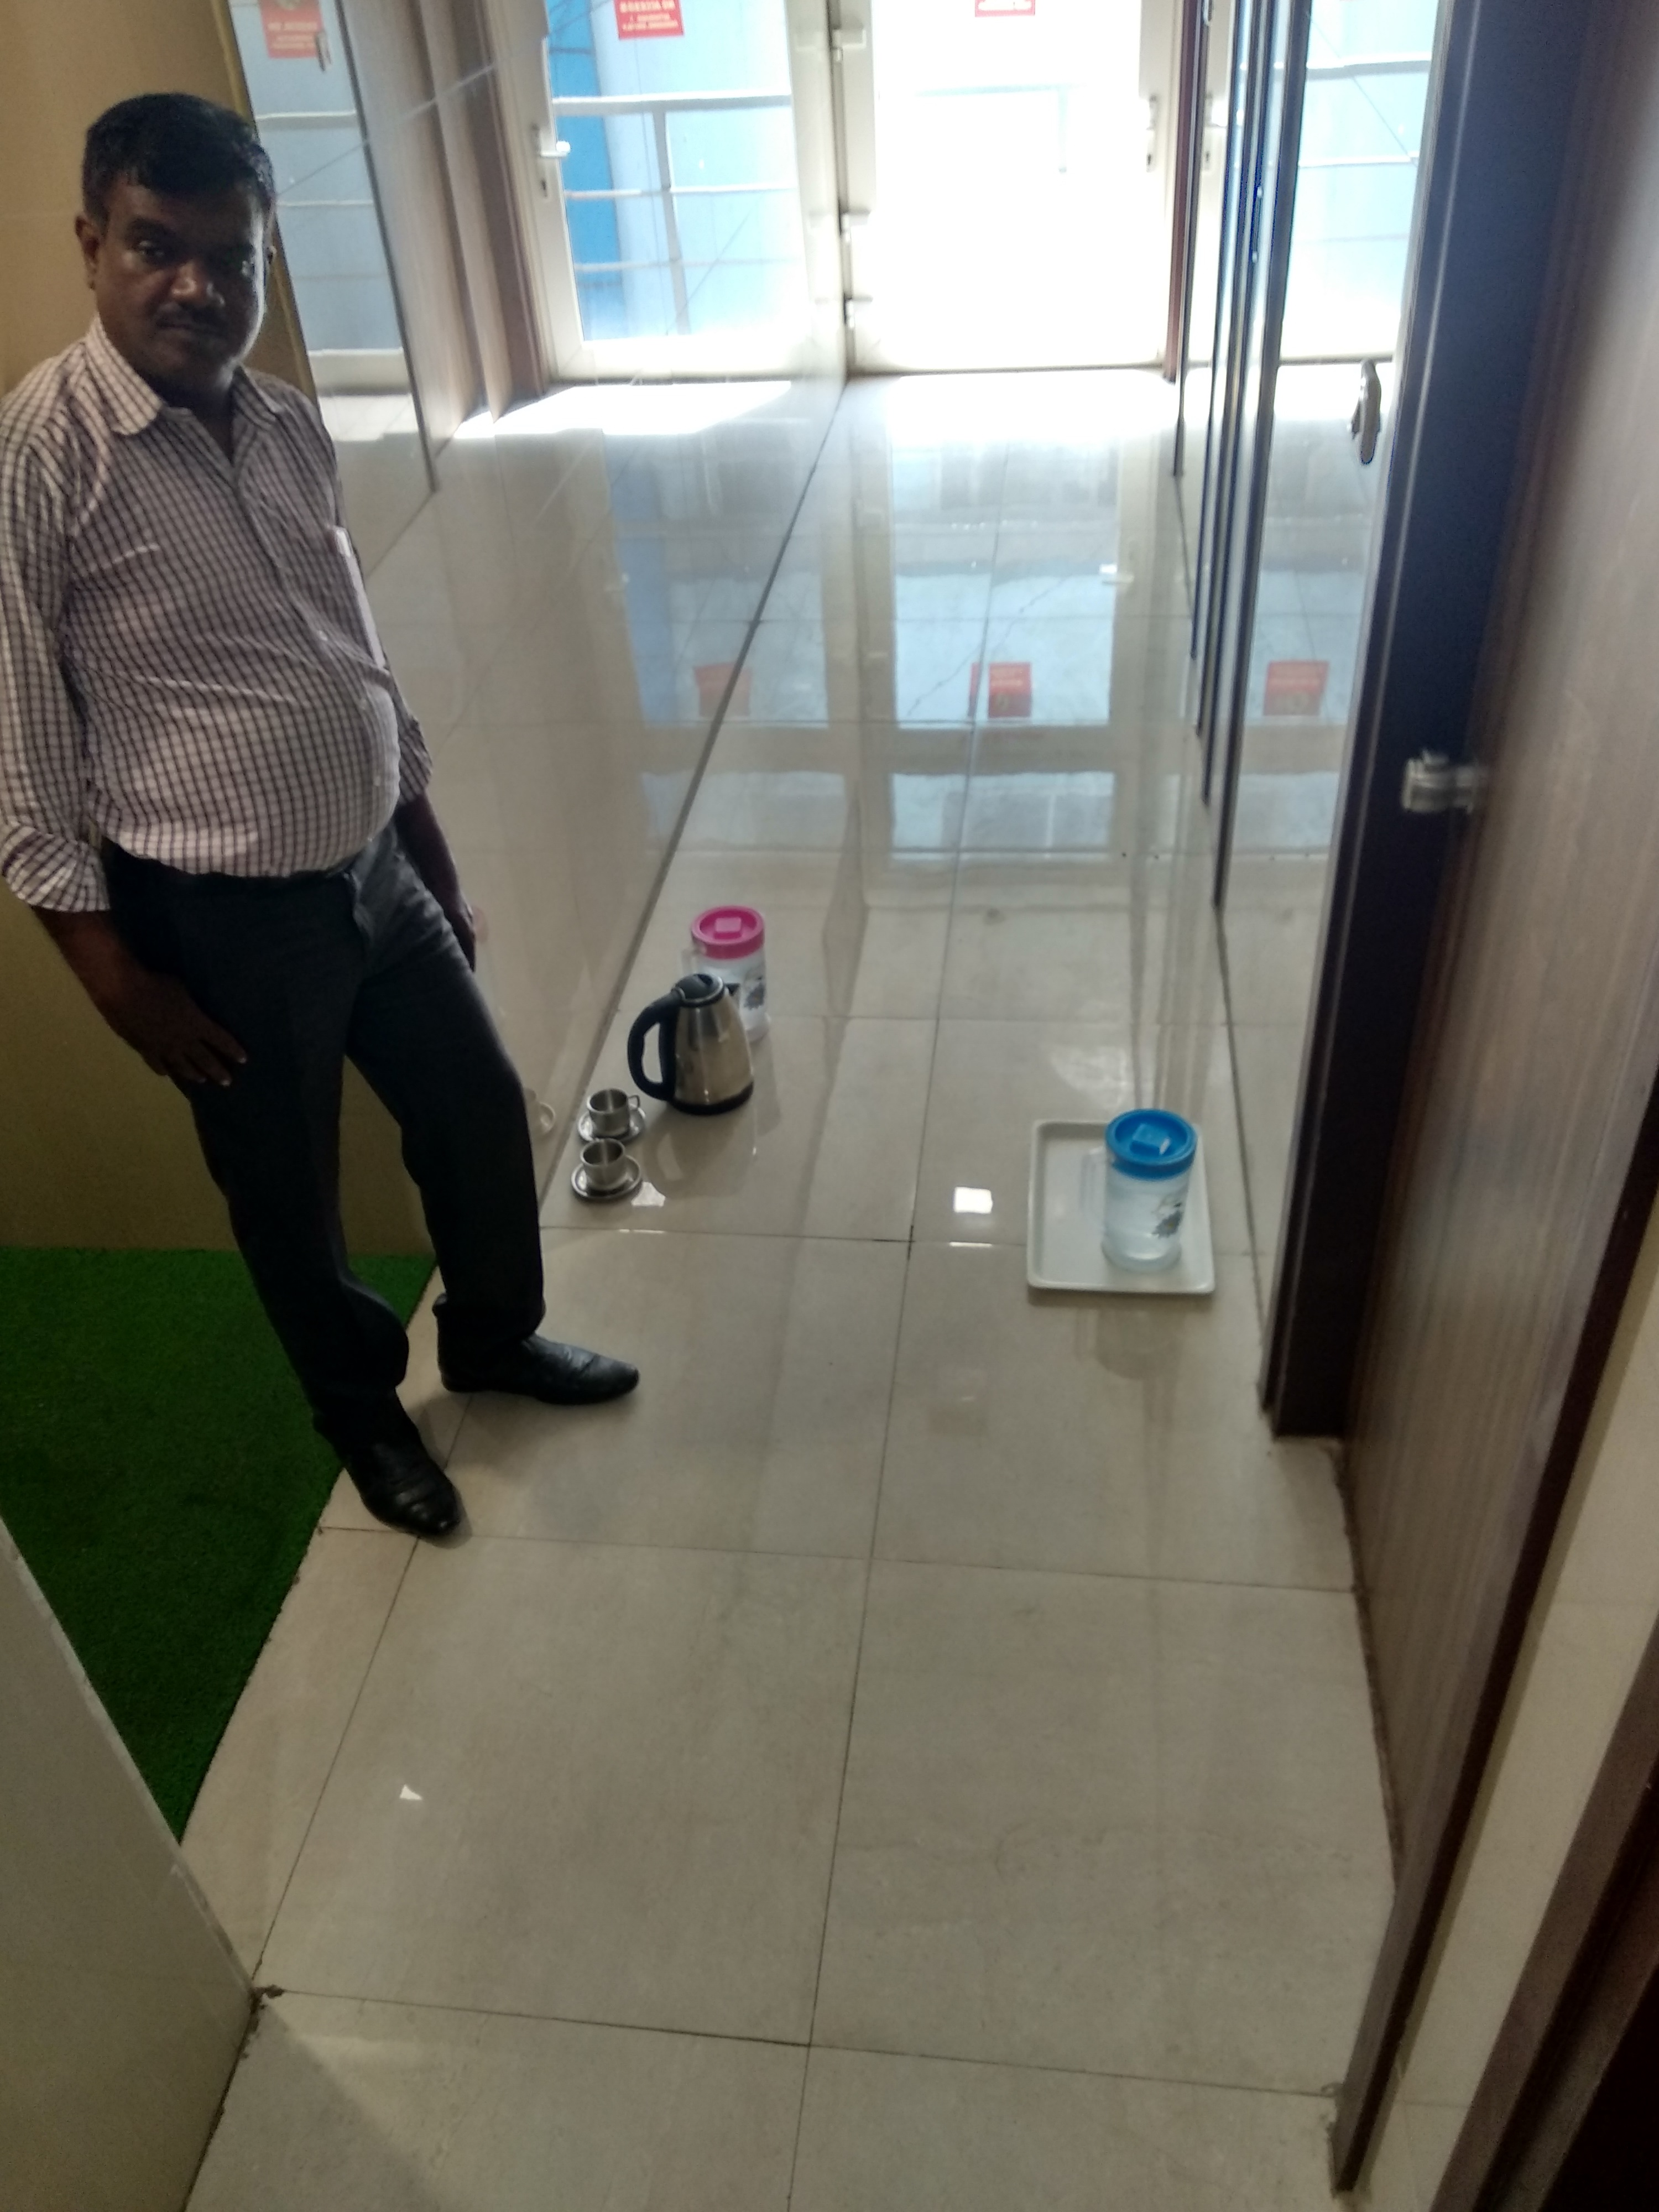CUP: (568, 1141, 648, 1207), (568, 1082, 655, 1139)
JUG: (1075, 1094, 1206, 1278), (620, 977, 774, 1113), (673, 902, 777, 975)
